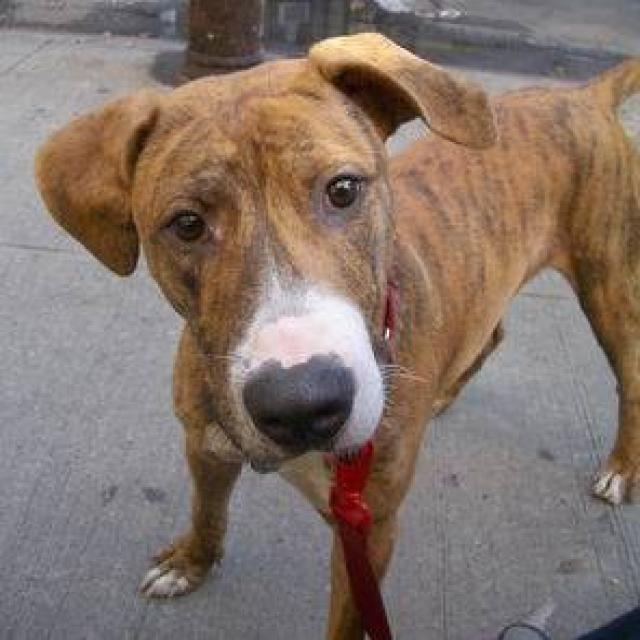dog: (30, 28, 638, 638)
